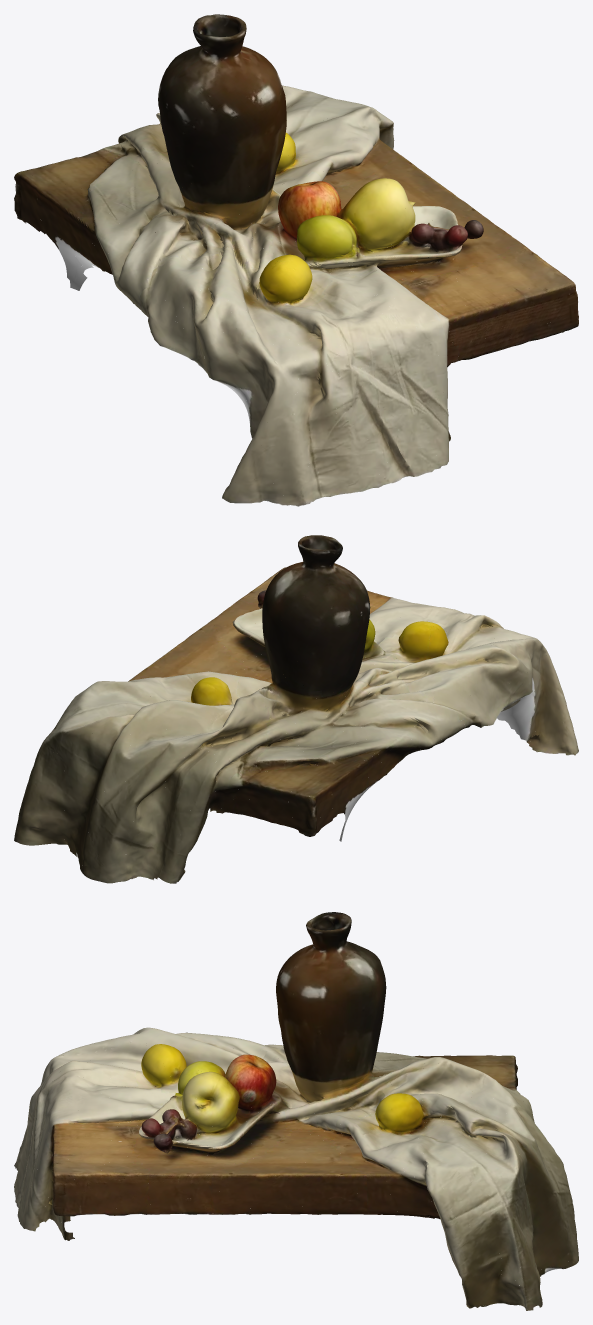
The model's file is 静物_其它_陶罐水果组合04_opt.glb.
3 renders of one model, top to bottom at view 1: azimuth 30°, elevation 25°; view 2: azimuth 150°, elevation 25°; view 3: azimuth 270°, elevation 25°, orthographic. The views are drawn at different scales.
Visible parts, largest first — view 1: defaultMat, defaultMat_1; view 2: defaultMat, defaultMat_1; view 3: defaultMat, defaultMat_1.
Part boxes in pixels (bbox=[...]): defaultMat: bbox=[14, 14, 578, 506]; defaultMat_1: bbox=[21, 16, 577, 504]; defaultMat: bbox=[14, 535, 578, 883]; defaultMat_1: bbox=[20, 536, 575, 883]; defaultMat: bbox=[14, 912, 578, 1310]; defaultMat_1: bbox=[14, 912, 571, 1306].
Bounding box in the file's own units: 0.7701 × 0.6 × 1.07.
Materials: 1 (1 with a texture image).
